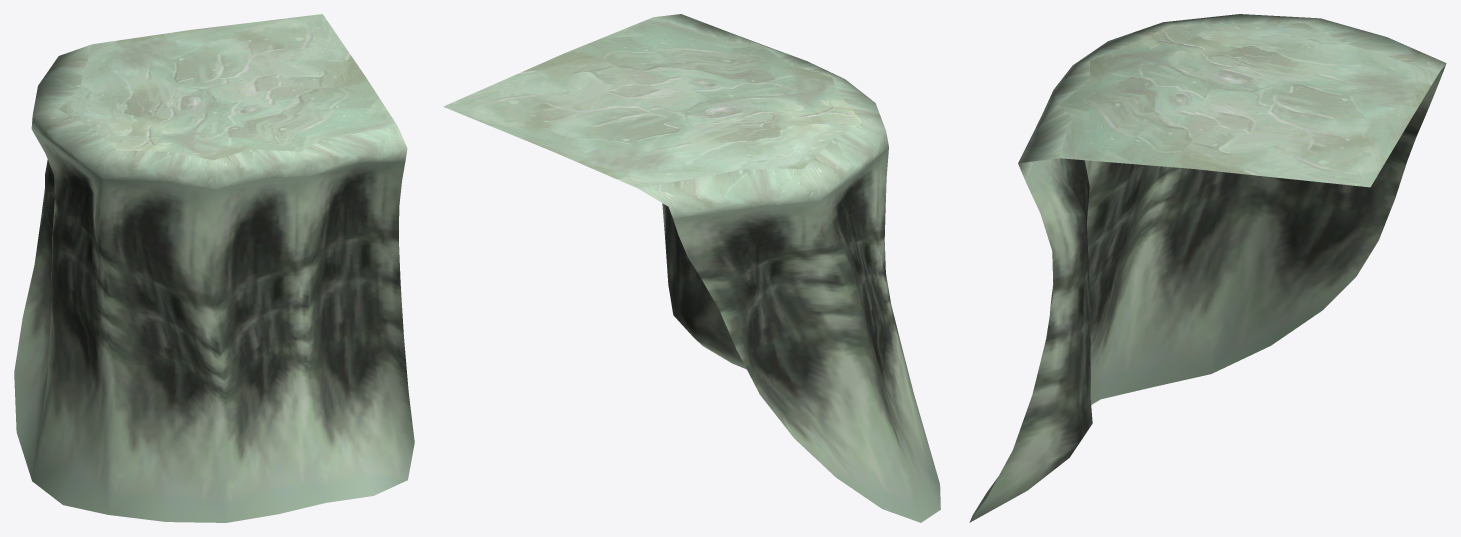
File: TROLLHOLE02_MAINCAVEPLATFORM05.fbx
3 views of the same model, side by side, from view 1: azimuth 30°, elevation 25°; view 2: azimuth 150°, elevation 25°; view 3: azimuth 270°, elevation 25° (orthographic). The views are drawn at different scales.
Visible parts, largest first — view 1: TROLLHOLE02_MAINCAVEPLATFORM05; view 2: TROLLHOLE02_MAINCAVEPLATFORM05; view 3: TROLLHOLE02_MAINCAVEPLATFORM05.
Part boxes in pixels (left/top/right/bottom): TROLLHOLE02_MAINCAVEPLATFORM05: left=14, top=14, right=414, bottom=522; TROLLHOLE02_MAINCAVEPLATFORM05: left=443, top=14, right=940, bottom=522; TROLLHOLE02_MAINCAVEPLATFORM05: left=969, top=14, right=1446, bottom=522.
Size of the model in its own units: 24115 by 22103 by 23432.
2 materials, 2 textured.
